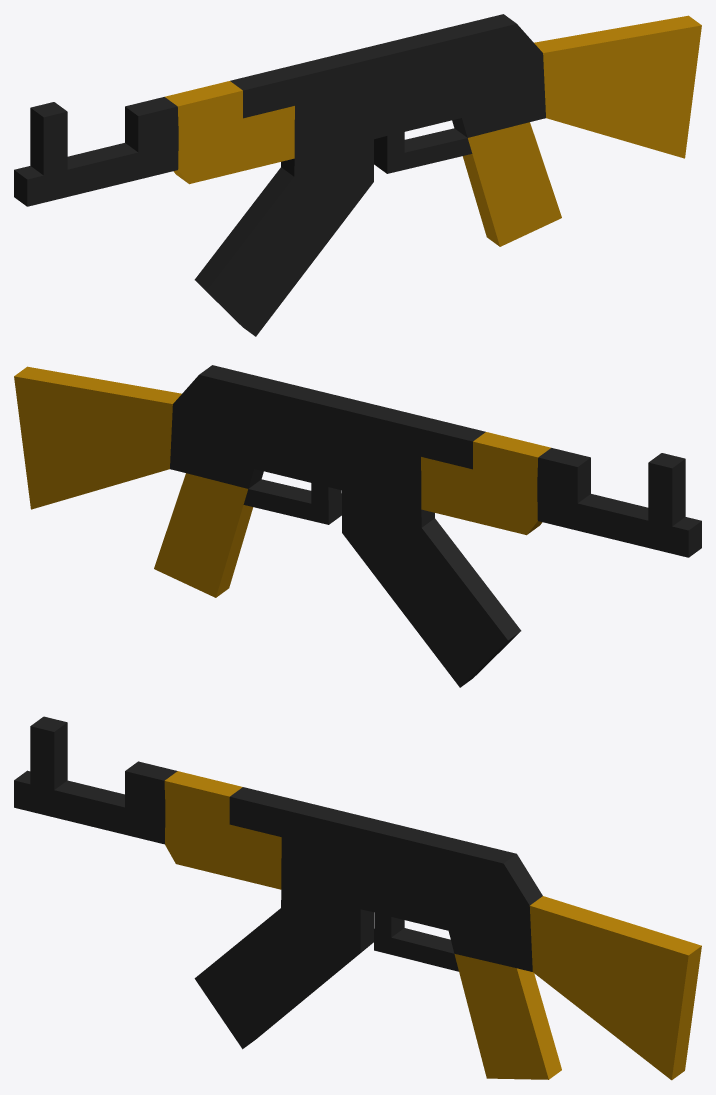
The model's file is Guns_Ak_74_v2.fbx.
The picture shows the model from 3 angles, top to bottom: view 1: azimuth 30°, elevation 25°; view 2: azimuth 150°, elevation 25°; view 3: azimuth 330°, elevation 25°; orthographic projection.
Parts seen in each view (by area): view 1: Ak_74_v2; view 2: Ak_74_v2; view 3: Ak_74_v2.
Boxes of the visible parts, x1,y1,x2,y2 form: Ak_74_v2: (14, 14, 701, 336); Ak_74_v2: (14, 365, 701, 687); Ak_74_v2: (14, 716, 701, 1080).
Size of the model in its own units: 133 by 51.21 by 4.61.
